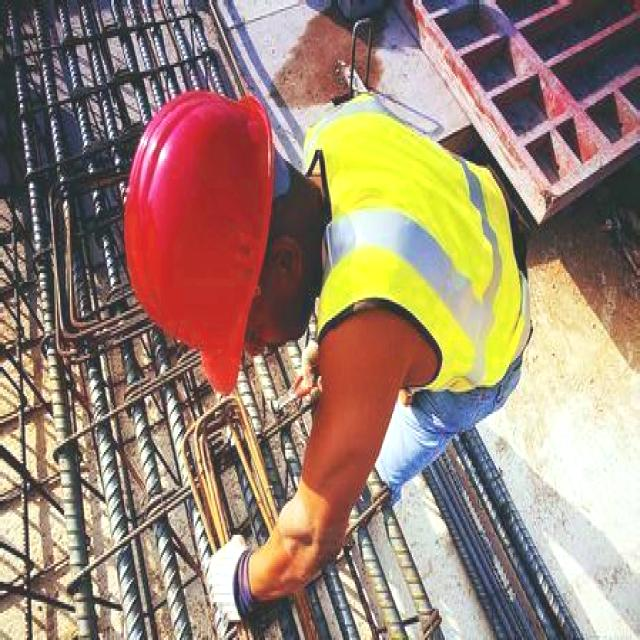hand_glove: (202, 530, 260, 638)
head_helmet: (132, 76, 274, 401)
person: (121, 83, 532, 427)
vest: (308, 103, 503, 383)
